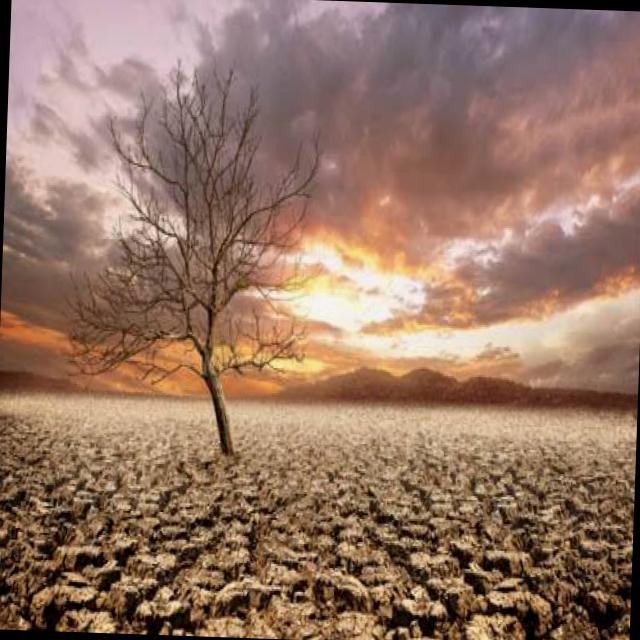suelo_seco: (217, 465, 518, 598)
